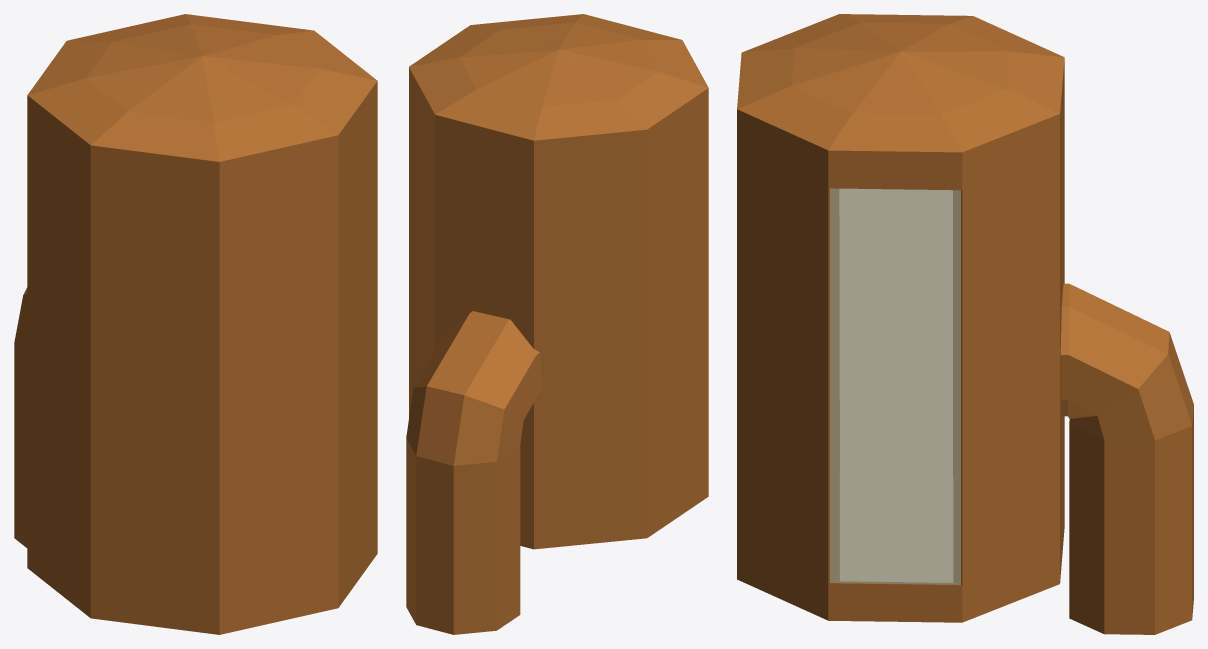
The model's file is VAT90.glb.
3 renders of one model, left to right at view 1: azimuth 30°, elevation 25°; view 2: azimuth 150°, elevation 25°; view 3: azimuth 270°, elevation 25°, orthographic. The views are drawn at different scales.
Visible parts, largest first — view 1: Cylinder, Cylinder.001; view 2: Cylinder, Cylinder.001; view 3: Cylinder, glass, liquidHeight, Cylinder.001.
Part boxes in pixels (x1,y1,x2,y2): Cylinder: (27,14,377,634); Cylinder.001: (14,287,27,547); Cylinder: (409,14,708,549); Cylinder.001: (406,311,541,634); Cylinder: (737,14,1064,622); glass: (830,188,960,584); liquidHeight: (840,189,952,582); Cylinder.001: (1060,283,1193,634).
Bounding box in the file's own units: 1.82 × 3.44 × 2.54.
